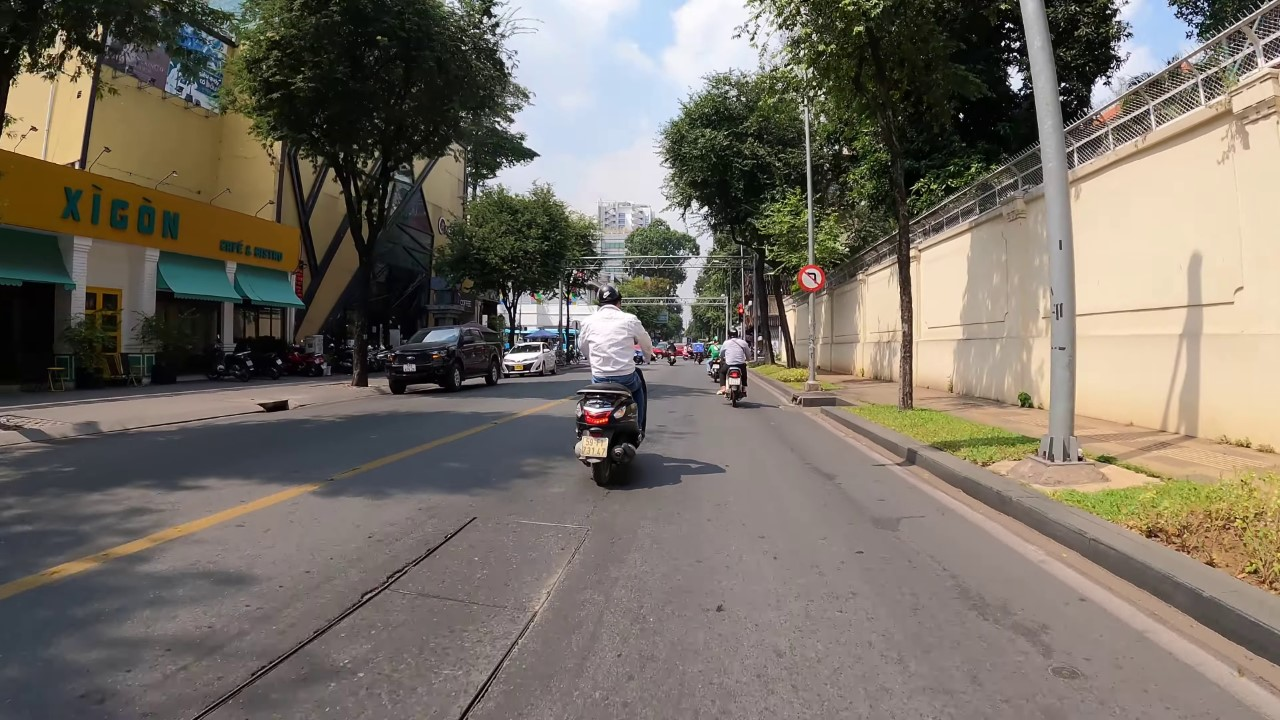cam_re_trai: (798, 262, 826, 293)
